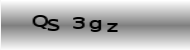3: (71, 17, 85, 29)
Q: (32, 15, 48, 29)
S: (47, 18, 60, 31)
g: (89, 19, 102, 33)
z: (106, 21, 118, 33)
